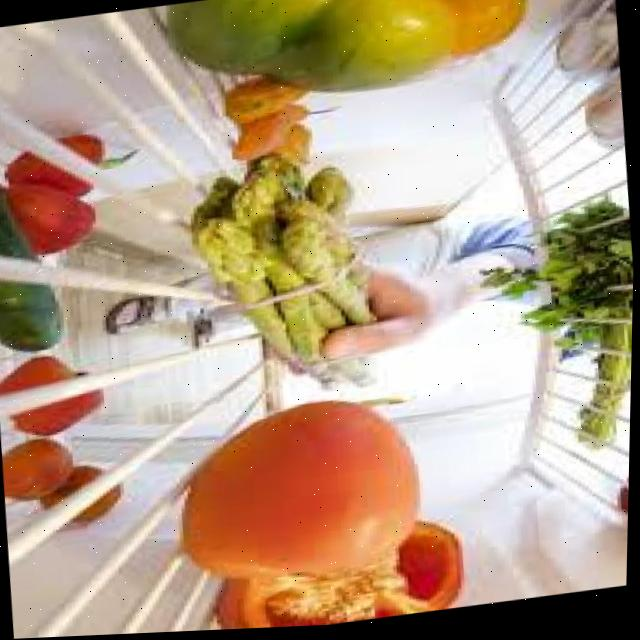Wet: (152, 375, 512, 634), (145, 134, 454, 428), (0, 79, 173, 553), (163, 0, 568, 183), (466, 180, 636, 480)
